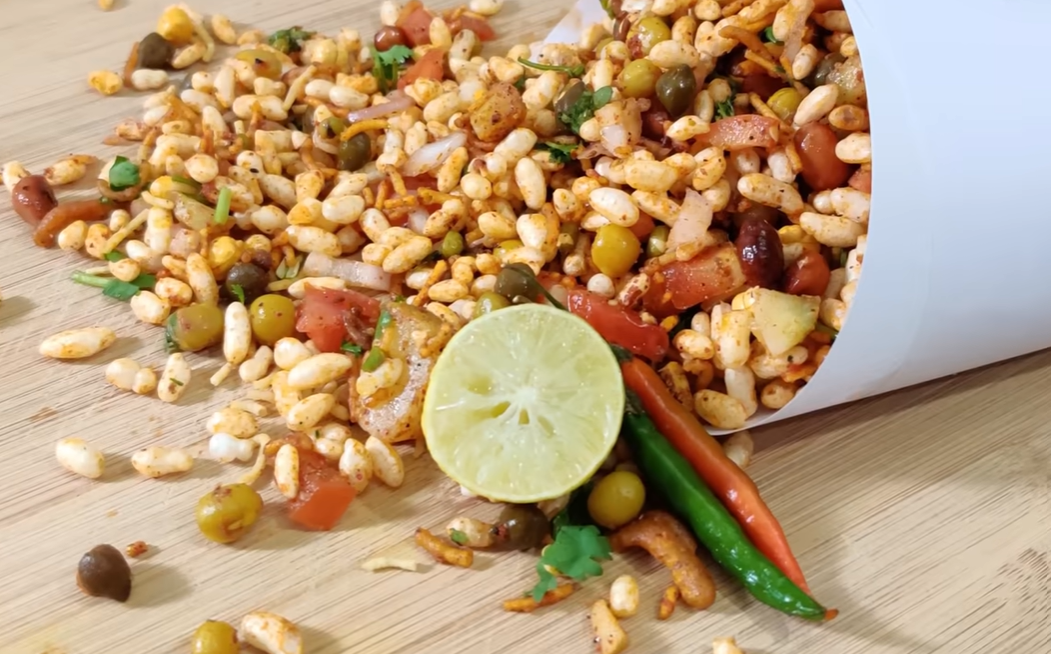chatpate: (99, 9, 837, 514)
